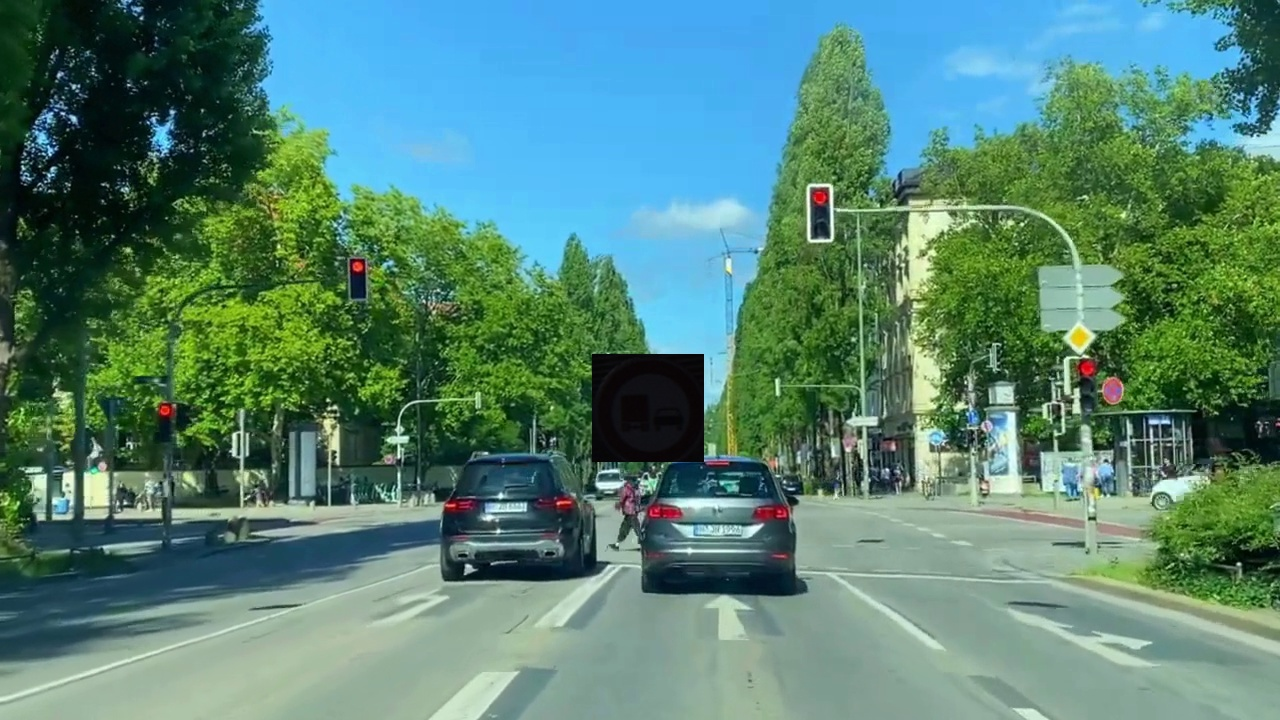No pass >3.5t: (592, 354, 704, 462)
